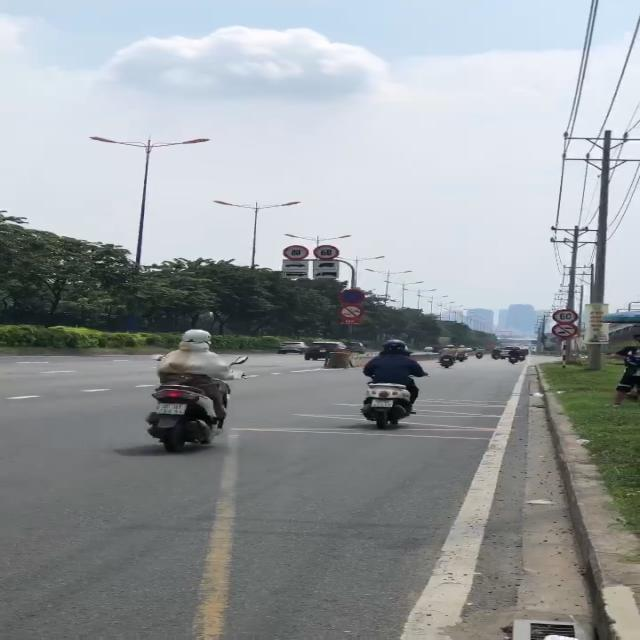Bien bao toc do toi da cho phep: (312, 245, 344, 260), (552, 308, 580, 323)
